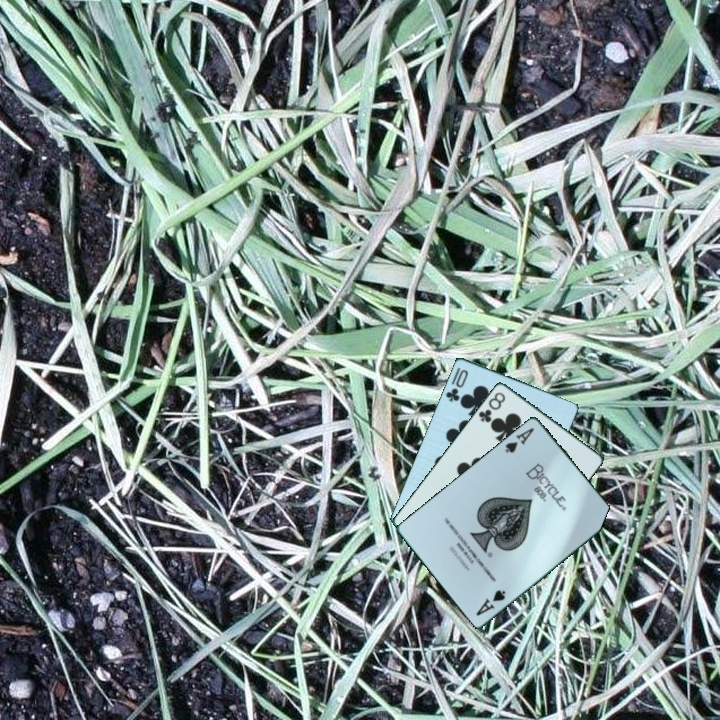10c: (442, 366, 471, 405)
8c: (475, 388, 508, 425)
As: (472, 586, 509, 618), (501, 424, 537, 456)
